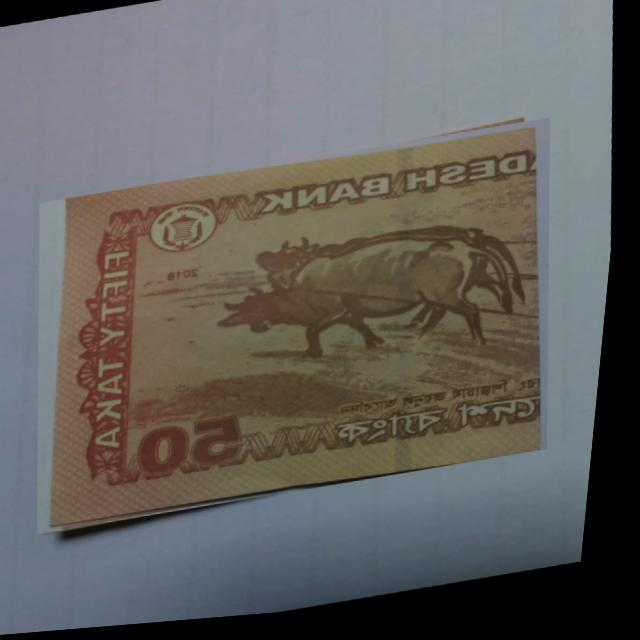Taka: (19, 125, 583, 537)
